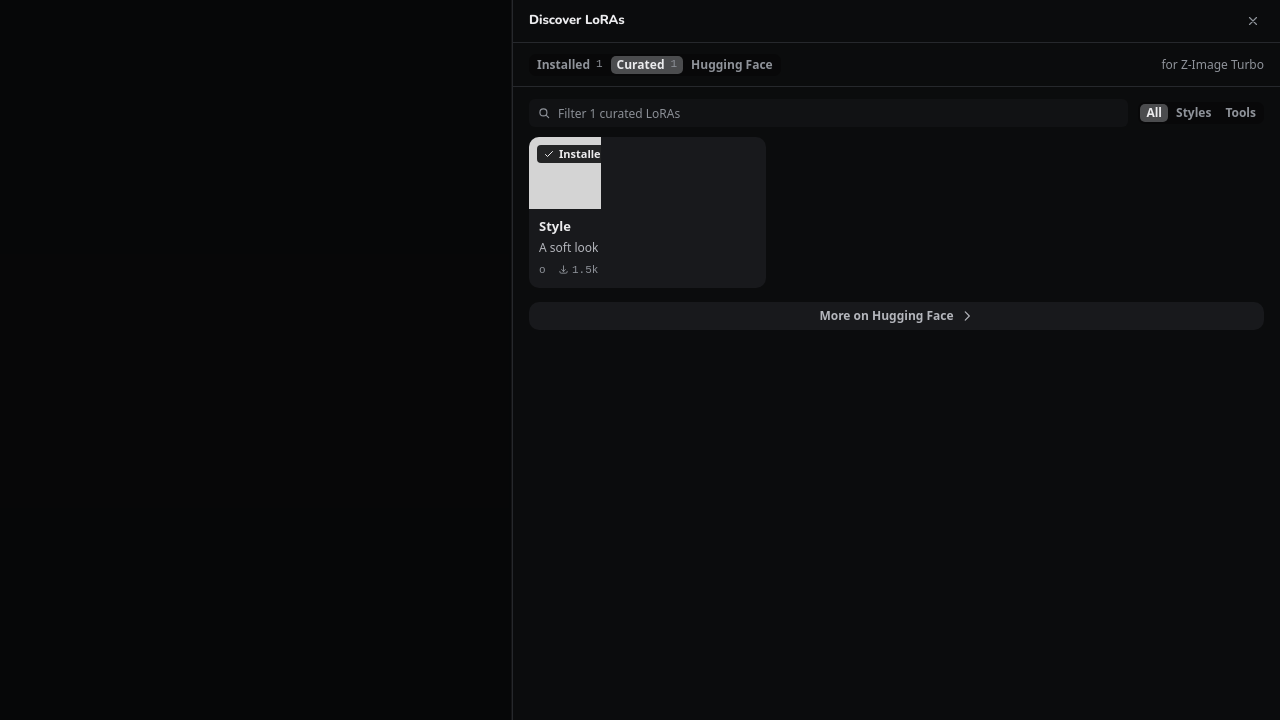
Test: Discover LoRAs drawer: Installed › puts the files of unknown model under a collapsed "Other models (N)" row at the bottom
The width and height of the screenshot is (1280, 720).
Click the tab "Installed 1": (570, 64) [531,56,609,74]
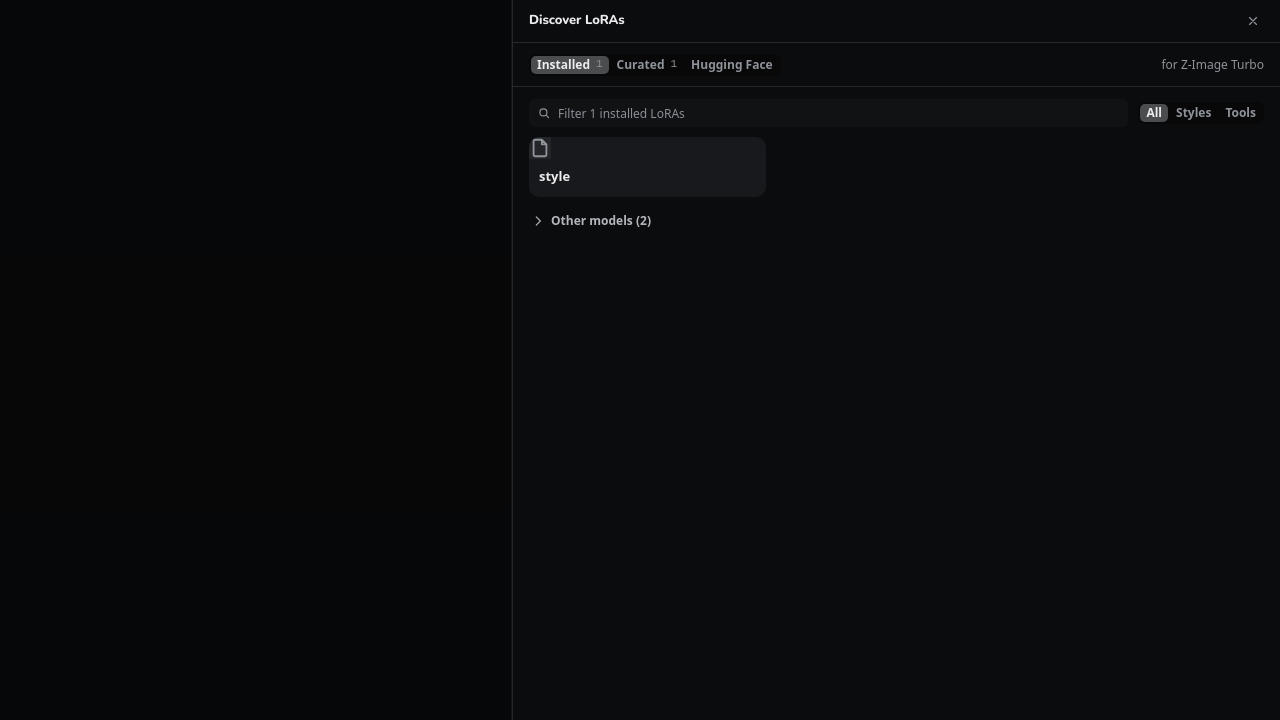
Check: the dialog shows "Installed 1", box [512,0,1279,719]
Check: the dialog shows "Other models (2)"
Click the button "Other models (2)": (591, 220) [529,206,653,234]
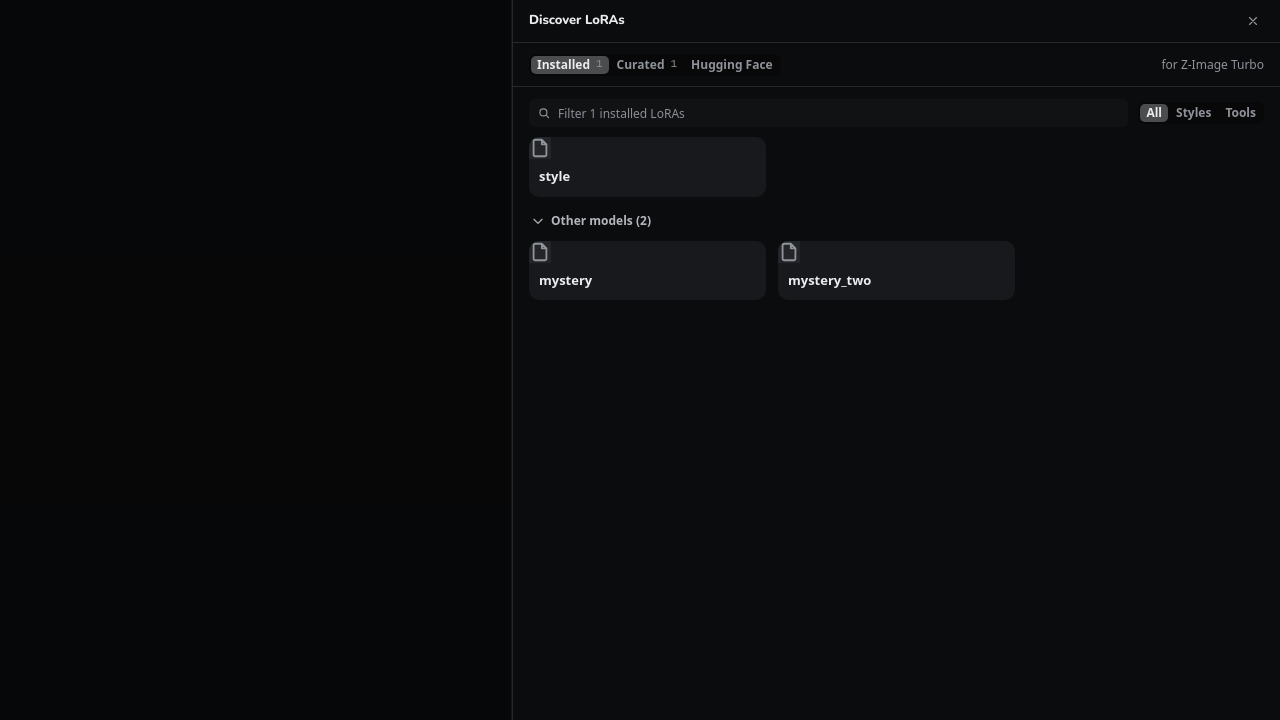
Check: the dialog shows "mystery", box [529,240,766,300]
Check: the dialog shows "mystery_two", box [778,240,1015,300]
